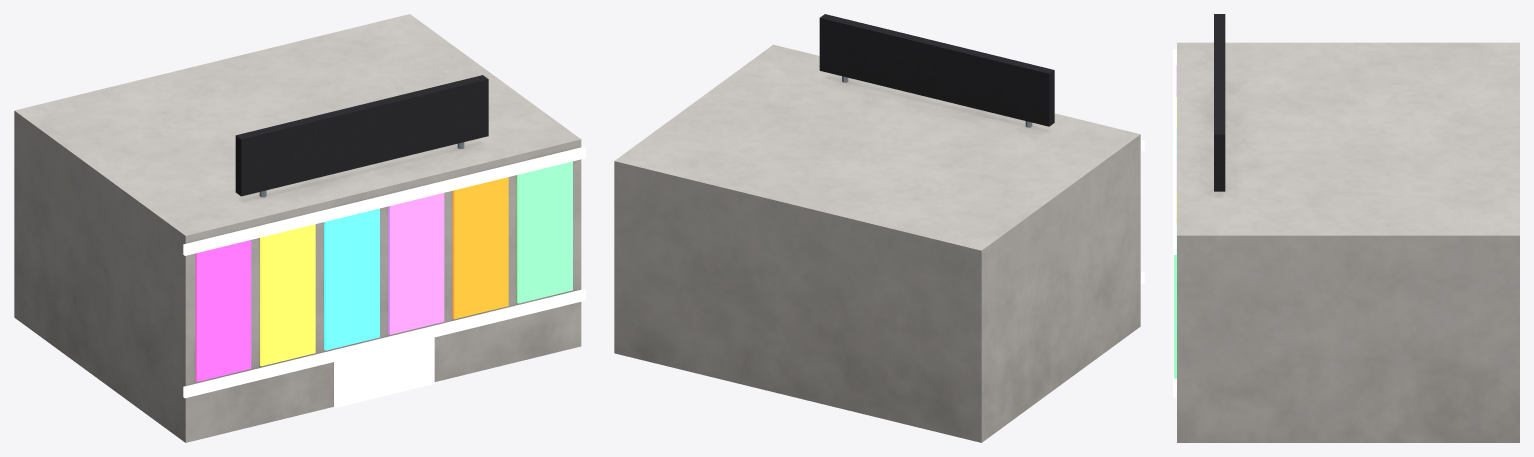
File: pachinko_tex.glb
The picture shows the model from 3 angles, left to right: view 1: azimuth 30°, elevation 25°; view 2: azimuth 150°, elevation 25°; view 3: azimuth 270°, elevation 25°; orthographic projection. The views are drawn at different scales.
Visible parts, largest first — view 1: pachinko; view 2: pachinko; view 3: pachinko.
Part boxes in pixels (box(x1,y1,x2,y2)): pachinko: box(14, 14, 585, 442); pachinko: box(614, 14, 1144, 442); pachinko: box(1173, 14, 1519, 442).
Size of the model in its own units: 16.2 by 10.5 by 12.13.
11 materials, 2 textured.
